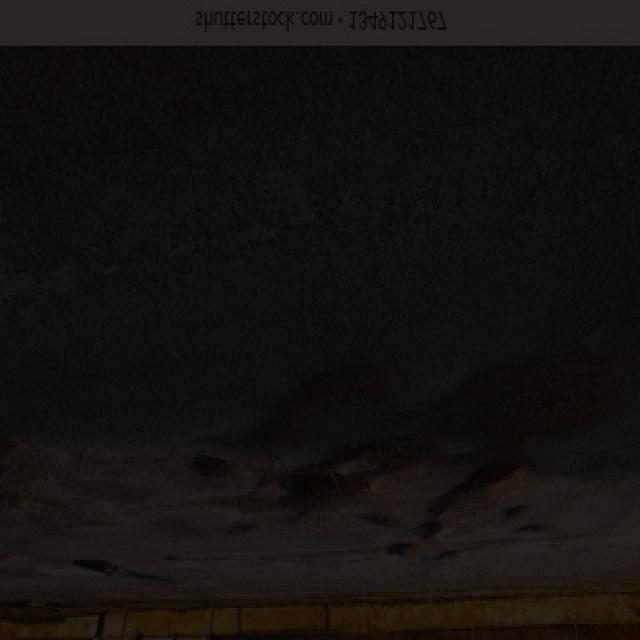Pothole: (437, 333, 640, 462), (384, 457, 561, 574), (232, 348, 410, 453), (267, 436, 427, 520), (193, 446, 261, 500), (0, 417, 39, 510), (69, 544, 122, 582)
